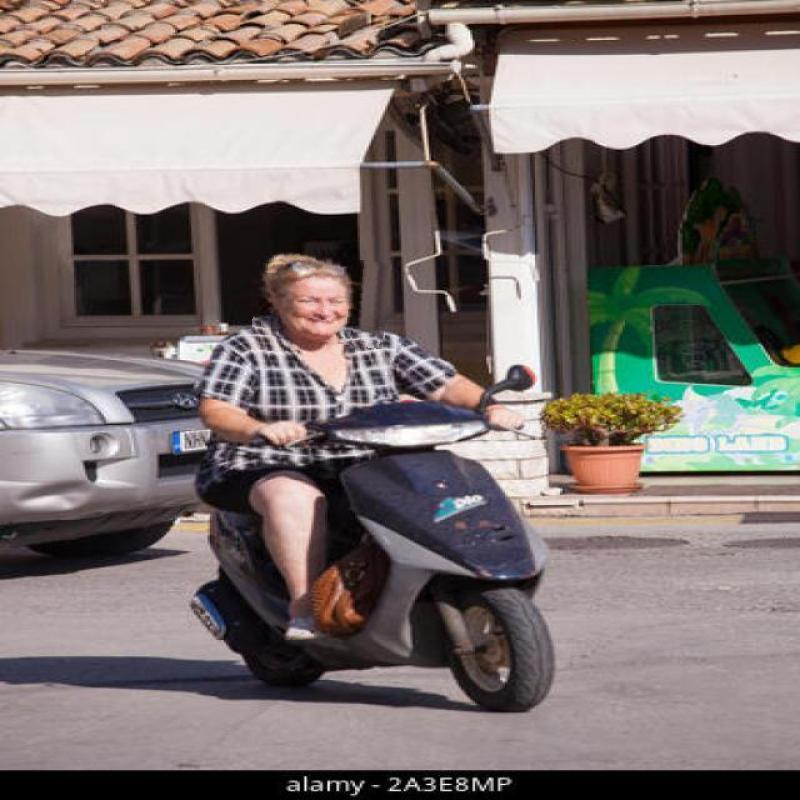nohelmet: (254, 252, 390, 346)
